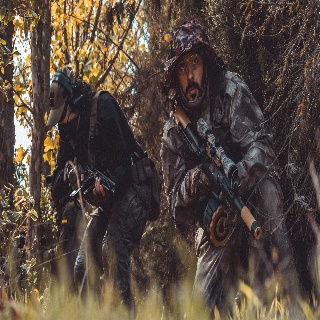rifle: (166, 99, 264, 251)
